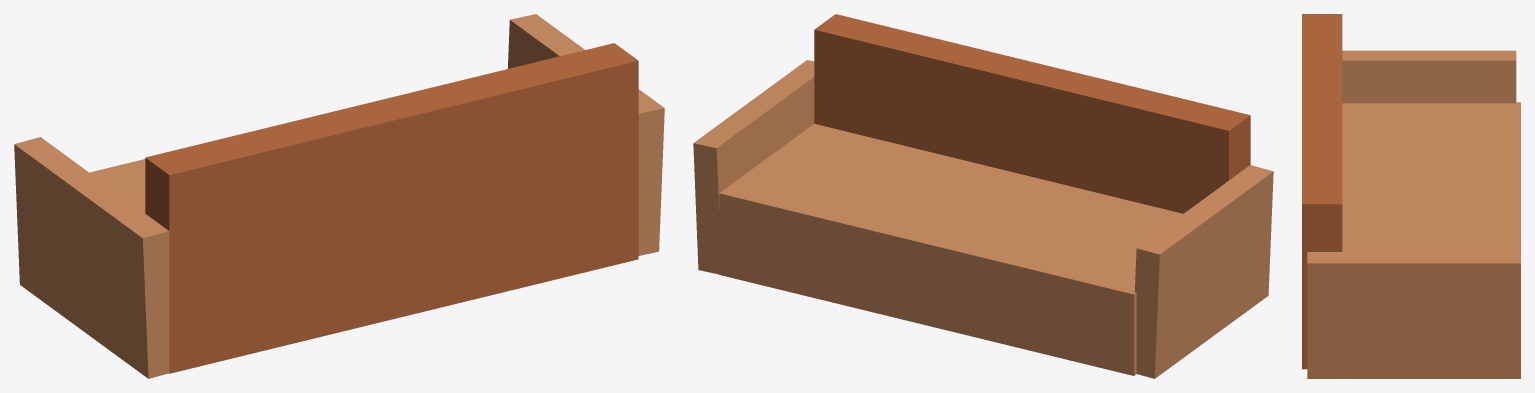
The model's file is sofa.fbx.
The picture shows the model from 3 angles, left to right: view 1: azimuth 30°, elevation 25°; view 2: azimuth 150°, elevation 25°; view 3: azimuth 270°, elevation 25°; orthographic projection. The views are drawn at different scales.
Visible parts, largest first — view 1: sofa; view 2: sofa; view 3: sofa.
Part boxes in pixels (x1=…): sofa: x1=14, y1=14, x2=664, y2=378; sofa: x1=693, y1=14, x2=1273, y2=378; sofa: x1=1302, y1=14, x2=1520, y2=378.
Bounding box in the file's own units: 493 × 179 × 214.
